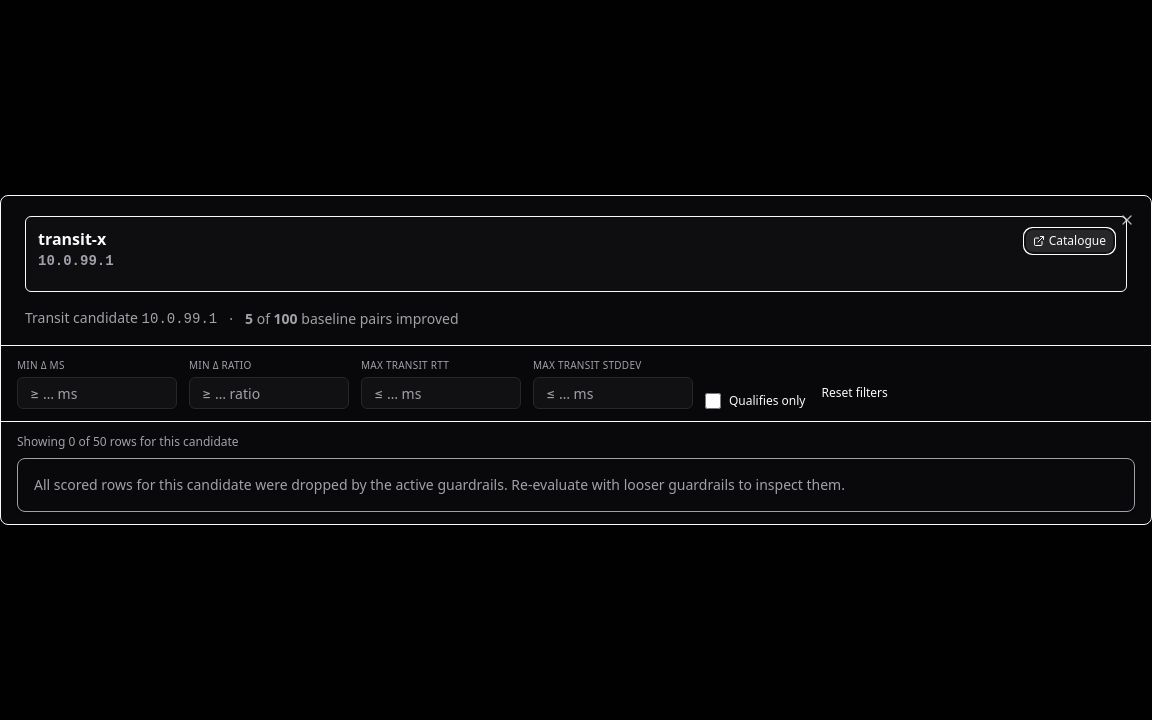
Scenario: DrilldownDialog — empty / error states › filtered total = 0 with an active toolbar filter shows the 'no rows match' card
The width and height of the screenshot is (1152, 720).
Click the switch with test id "filter-qualifies-only".
click(713, 401)  # box [705,393,721,409]
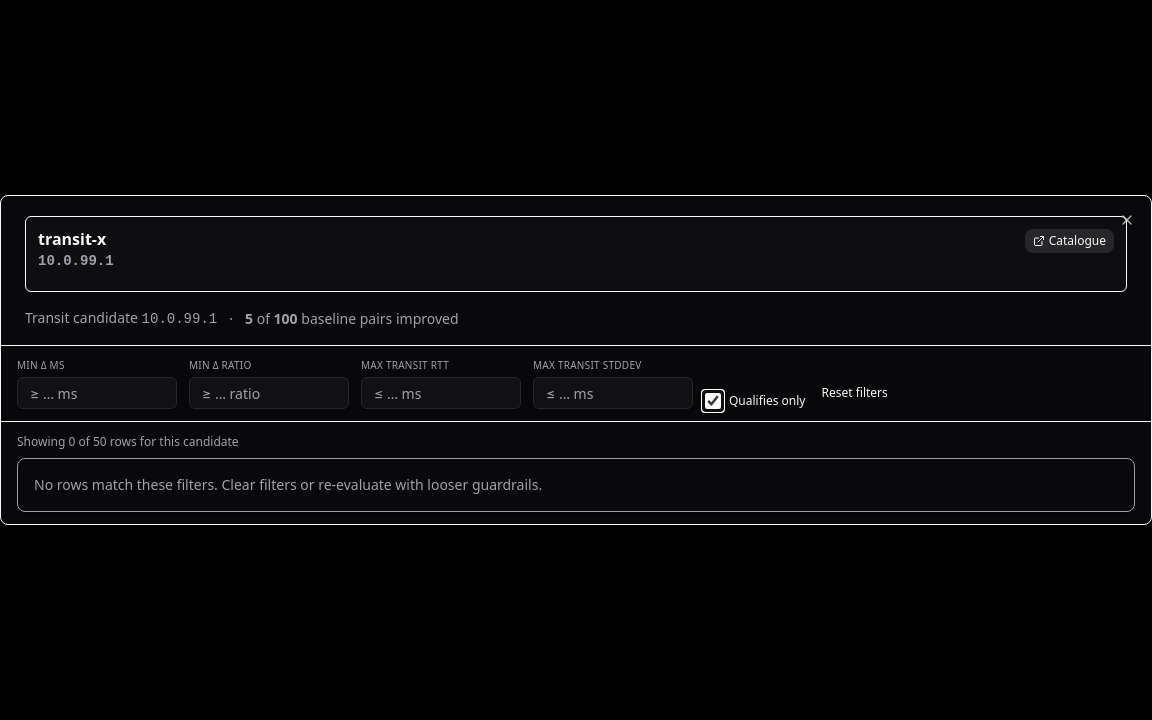
Check: the message with test id "drilldown-empty-filters" is shown, box [17,458,1135,512]
